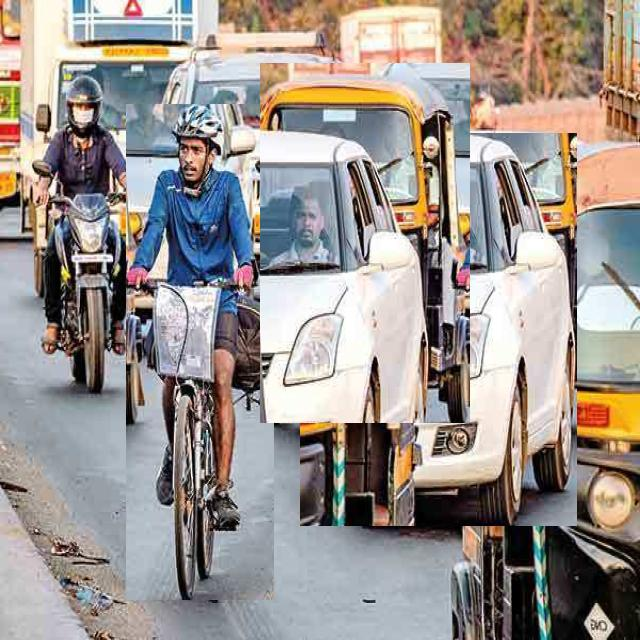autorickshaw: (452, 143, 640, 638), (260, 64, 470, 423)
bicycle: (126, 105, 274, 600)
car: (300, 133, 577, 526), (144, 50, 334, 221)
motorcycle: (32, 75, 144, 391)
truck: (21, 0, 219, 198)
